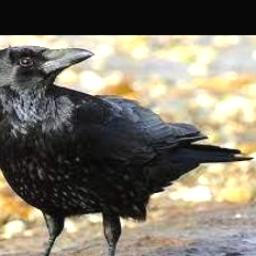Crow: (0, 45, 255, 256)
